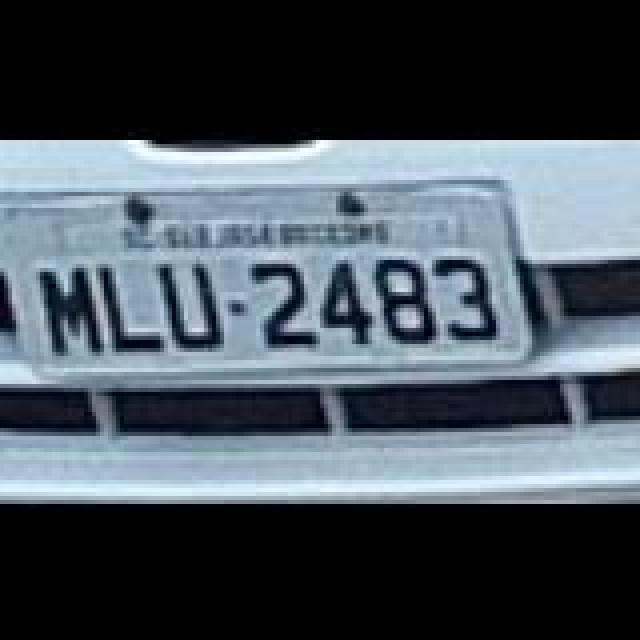2: (248, 258, 328, 350)
3: (426, 252, 510, 340)
4: (314, 256, 382, 344)
8: (370, 250, 446, 342)
L: (94, 258, 170, 350)
M: (34, 262, 110, 354)
U: (152, 258, 232, 350)
